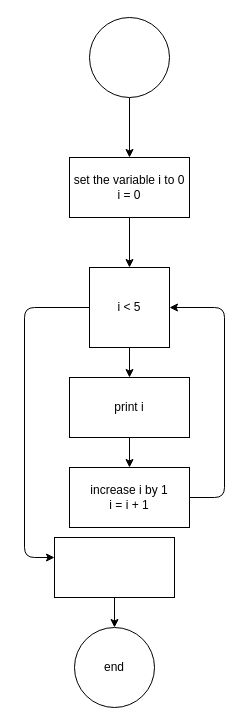
This 250x725 diagram has some shape labels left out. Here are the shapes that lost their labels. From the top down, the centre of each, then its label:
the point at 129,57: start
the point at 114,567: print Done
